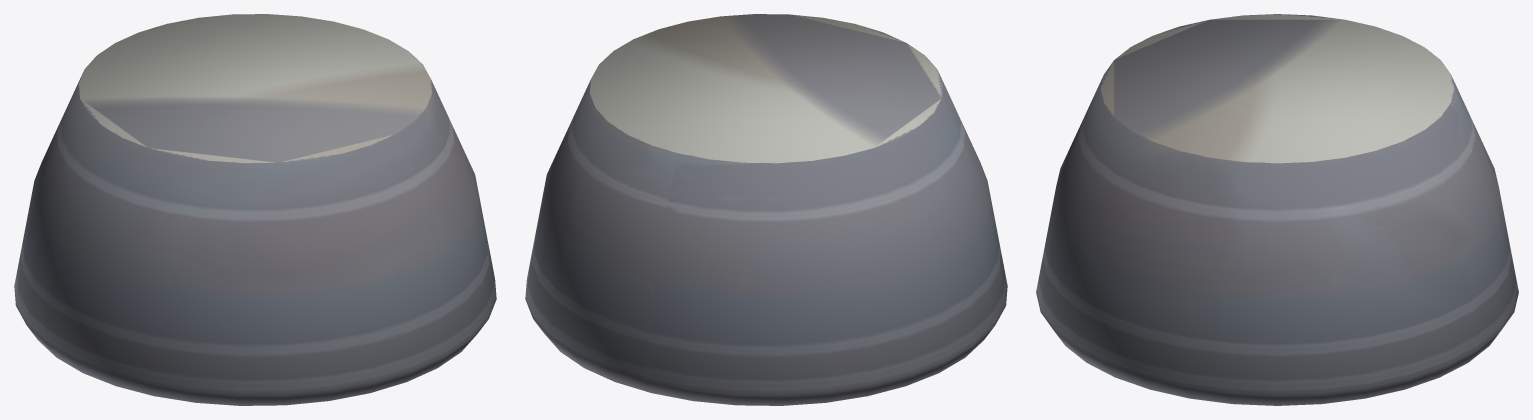
Rendered from Propulsor.fbx.
3 views of the same model, side by side, from view 1: azimuth 30°, elevation 25°; view 2: azimuth 150°, elevation 25°; view 3: azimuth 270°, elevation 25° (orthographic).
Visible parts, largest first — view 1: Propulsor; view 2: Propulsor; view 3: Propulsor.
Part boxes in pixels (x1,y1,x2,y2): Propulsor: [14, 14, 496, 405]; Propulsor: [525, 14, 1007, 405]; Propulsor: [1036, 14, 1518, 405].
Size of the model in its own units: 86.59 by 86.59 by 43.59.
